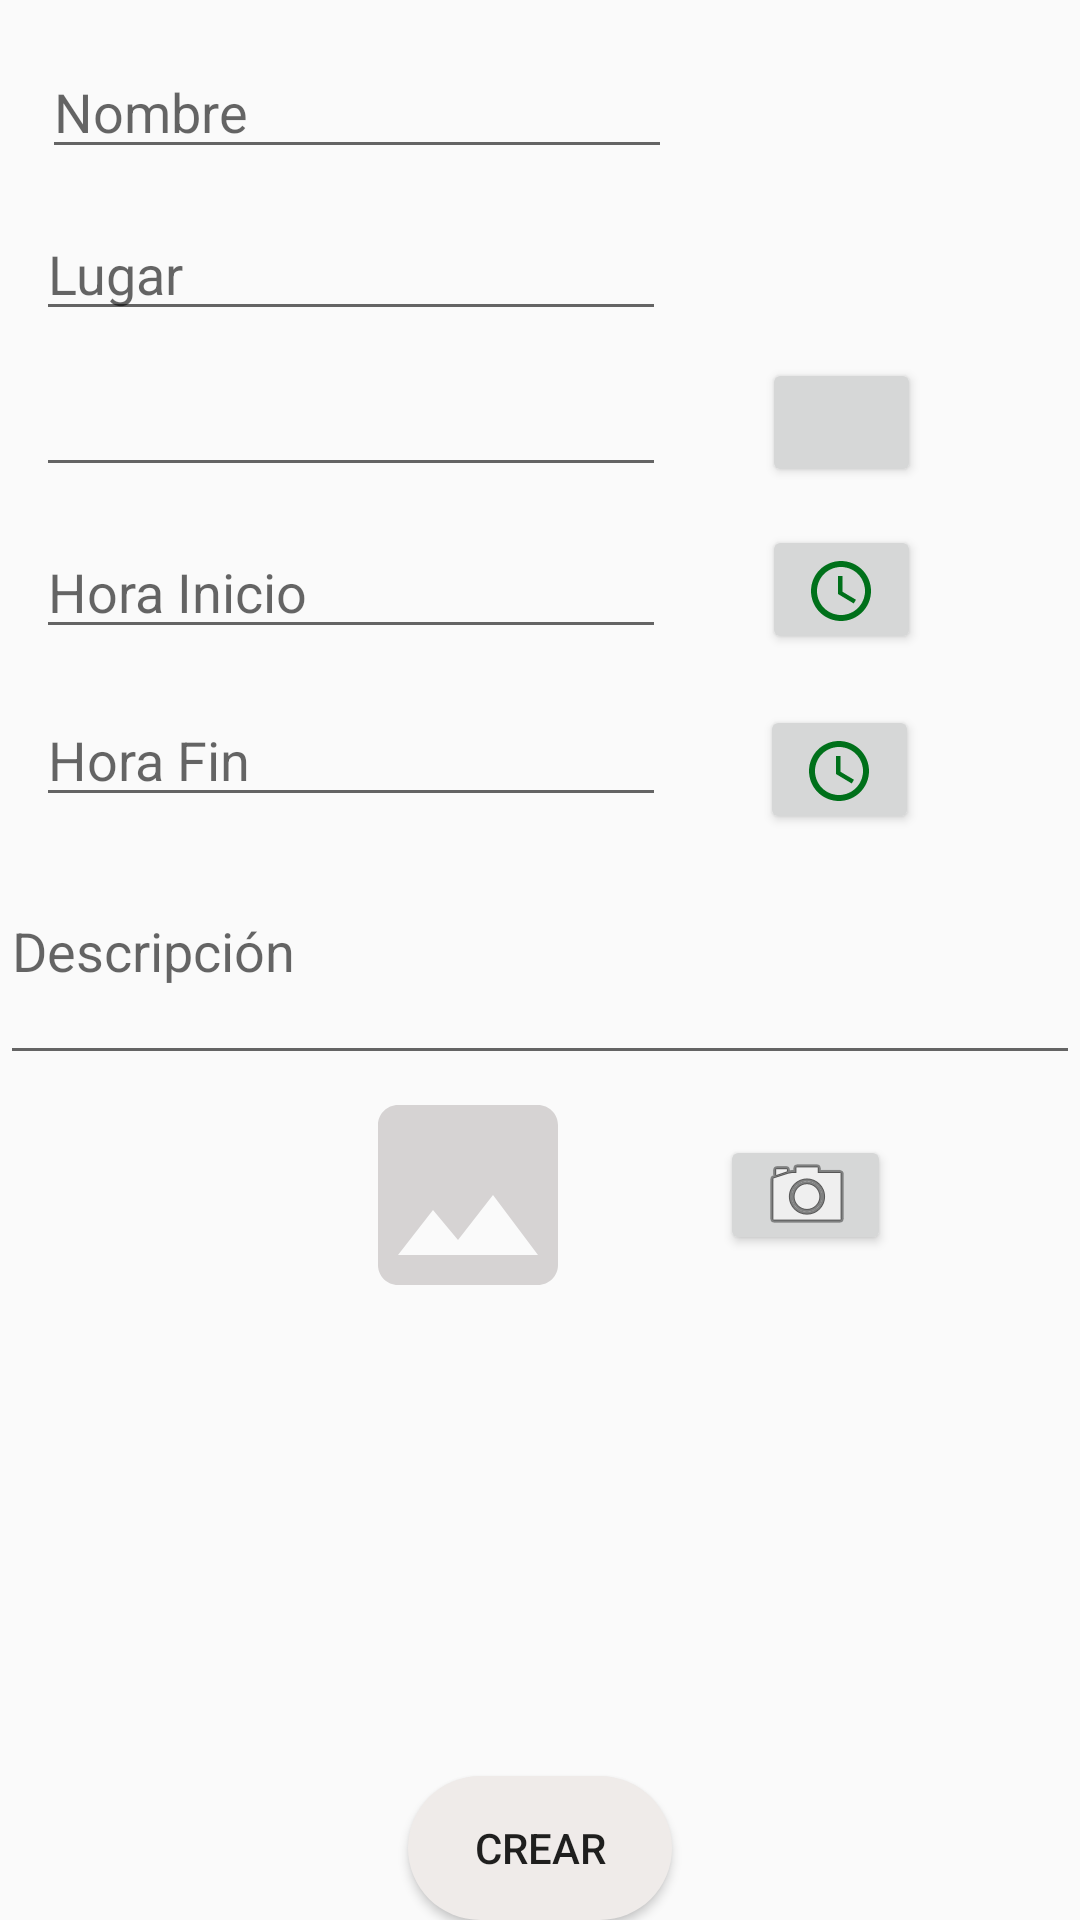

Icons on this 1080px×1920px Android screen, each with the point to tap as (x,y):
photo: (468,1195)
